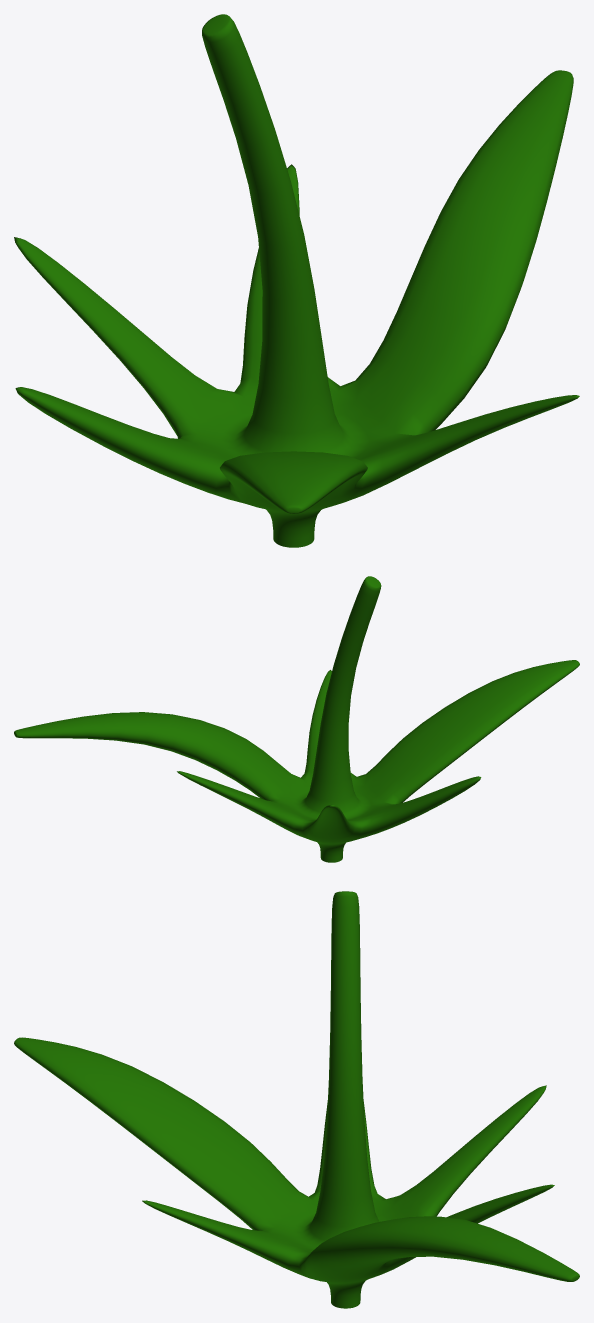
Rendered from tomatostengel.glb.
3 views of the same model, one above another, from view 1: azimuth 30°, elevation 25°; view 2: azimuth 150°, elevation 25°; view 3: azimuth 270°, elevation 25° (orthographic). The views are drawn at different scales.
Parts seen in each view (by area): view 1: Cylinder; view 2: Cylinder; view 3: Cylinder.
Part boxes in pixels (x1,y1,x2,y2): Cylinder: (14,14,579,547); Cylinder: (14,576,579,862); Cylinder: (14,891,579,1308).
Size of the model in its own units: 2.36 by 1.71 by 2.26.
